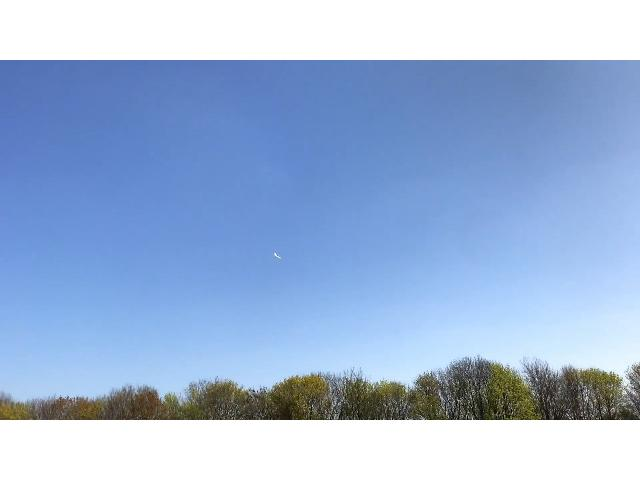Anti-Drone: (262, 248, 292, 264)
